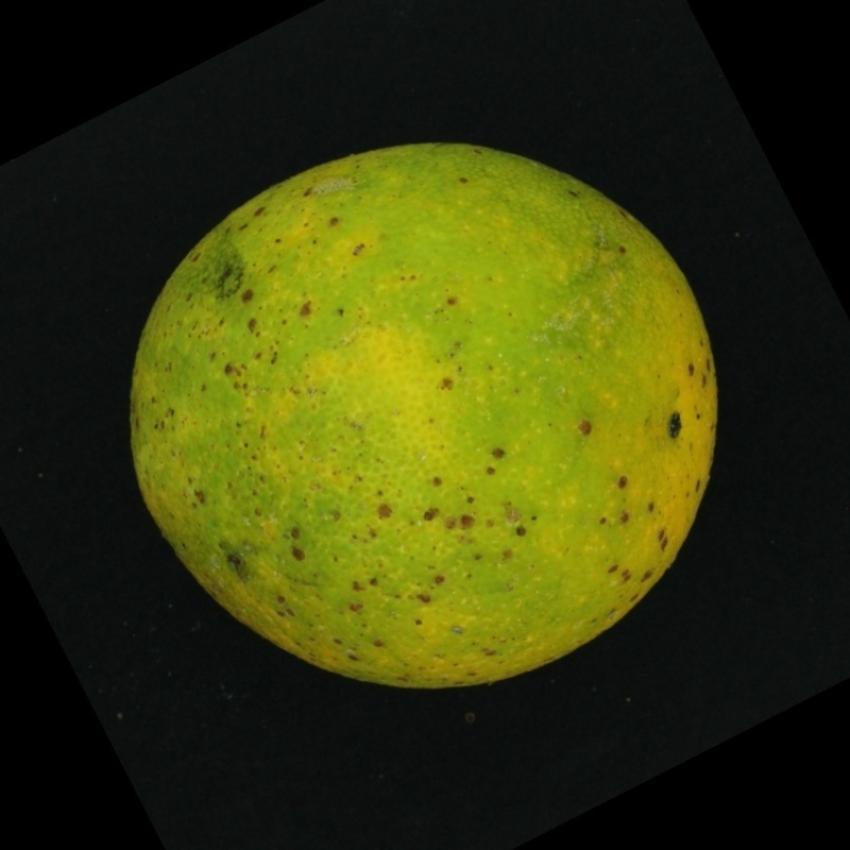Mal estado: (110, 123, 738, 712)
